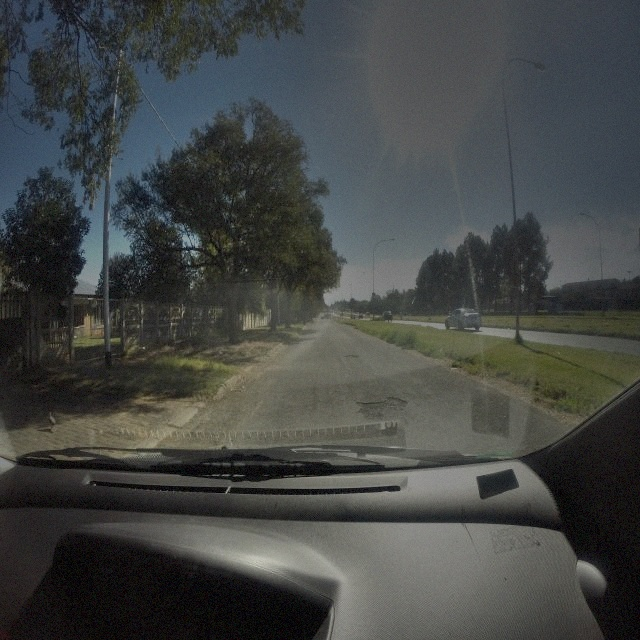pothole: (358, 388, 408, 428), (346, 352, 359, 359)
